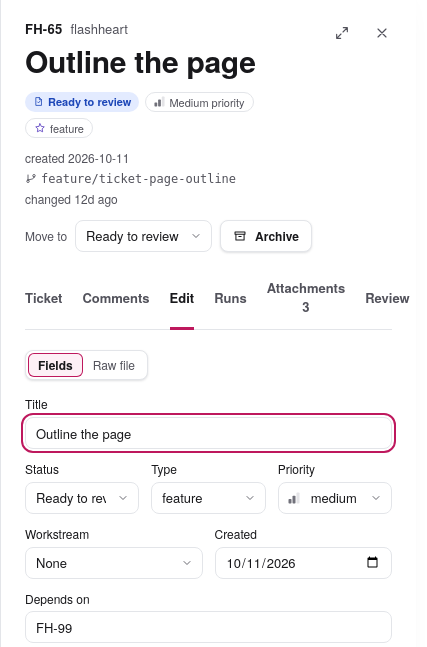
Test: the card panel's Edit tab with unsaved changes (FH-138) › keeps the draft while another tab is shown
This screenshot has width=427, height=647.
Select "high" in the dropdown labelled "Priority": [335, 498] box [278,482,392,514]
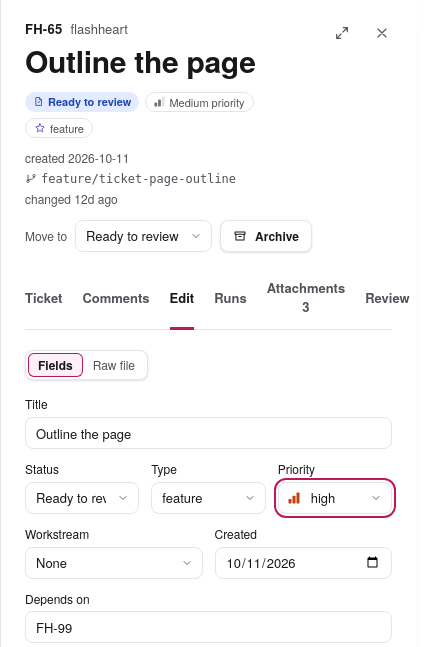
Click the radio button labelled "Raw file": [114, 364] box [93,356,135,372]
(page scrolled)
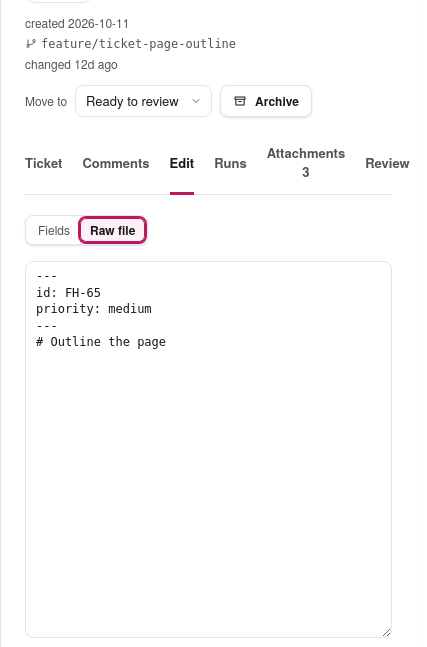
In the text box named "Ticket file": [208, 450] box [25,261,392,638], type "More."
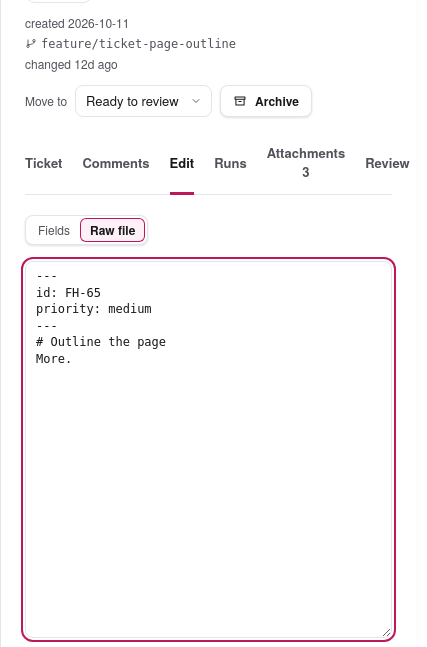
Click the tab "Ticket": [44, 164] box [25,133,62,194]
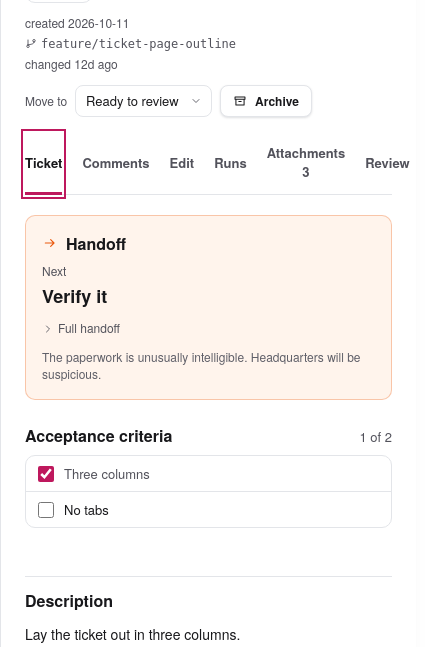
Click the tab "Edit": [182, 164] box [170,133,194,194]
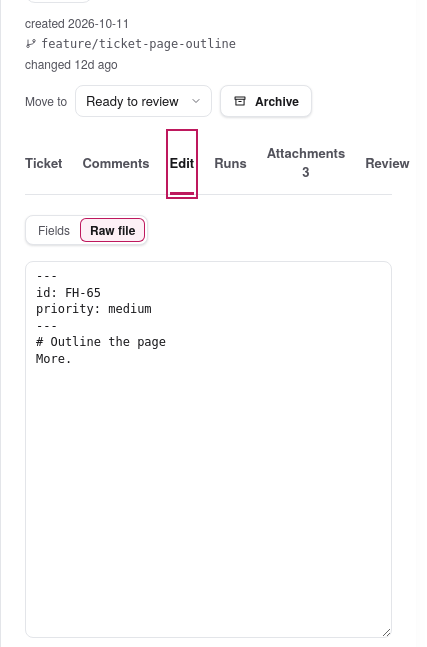
Click the radio button labelled "Fields": [54, 229] box [38,220,70,238]
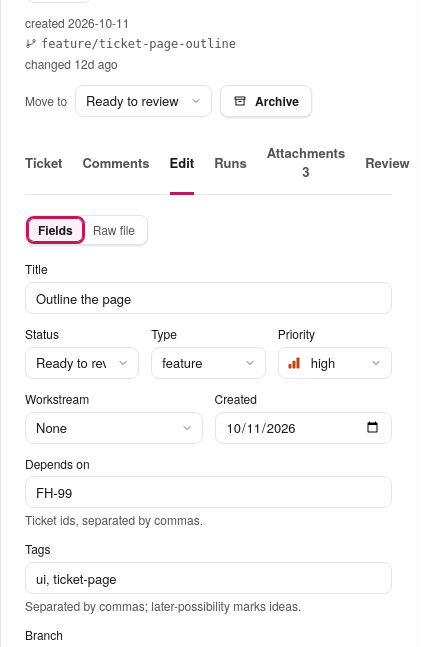
expect the dropdown labelled "Priority" shows "high": met, box [278,347,392,379]
